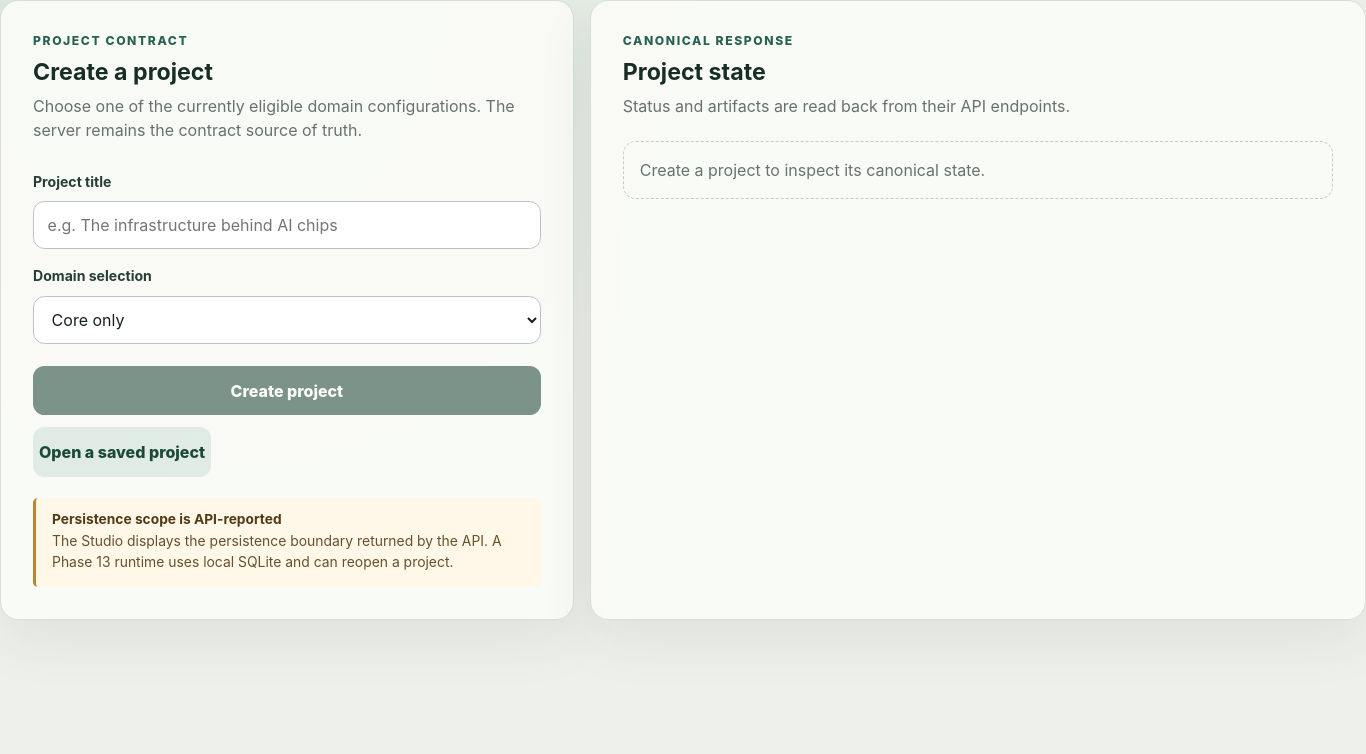
it: ProjectConsole › runs React through the real facade and generated client
expect the dropdown labelled "Domain selection" shows "Core only": met, box [33,296,541,344]
expect the text "persistence boundary returned by the API" is shown: met, box [52,534,502,570]
In the field labelled "Project title": (287, 225) [33,201,541,249], type "Core project"
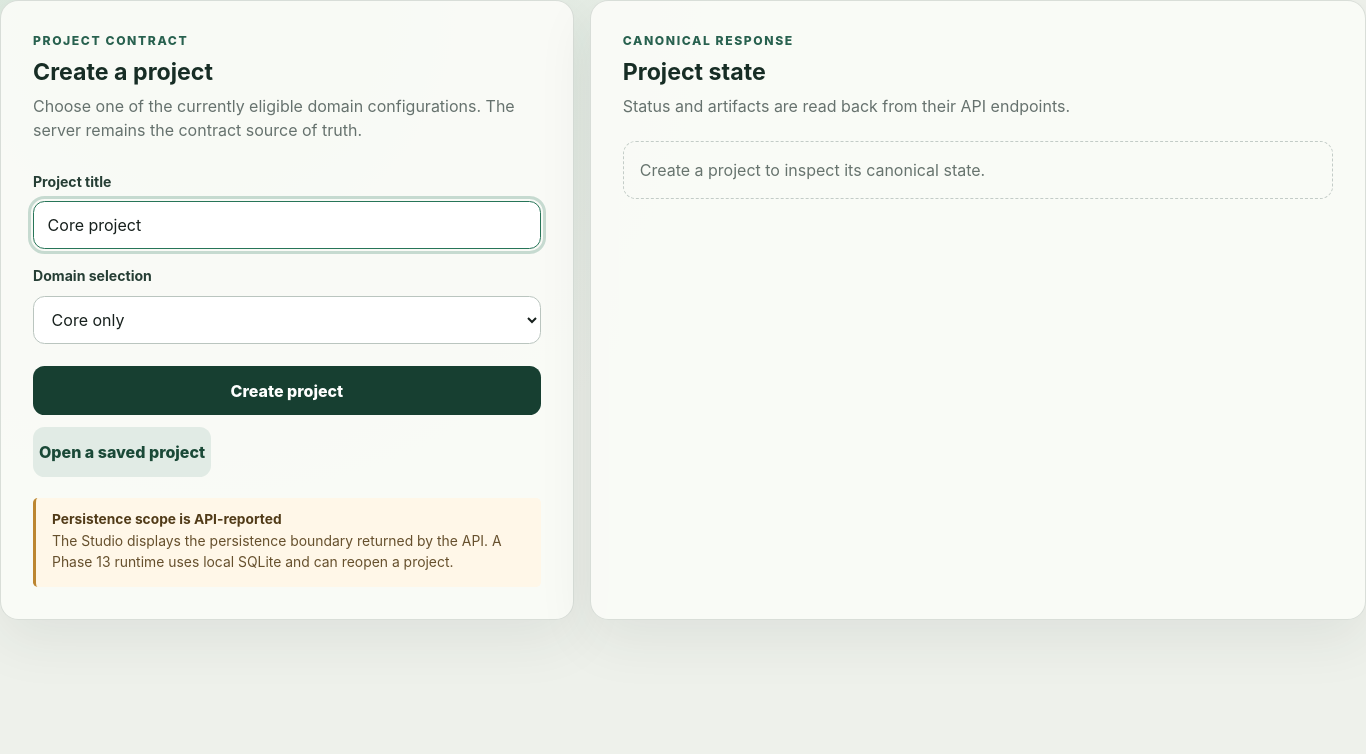
Click the button "Create project": (287, 391) [33,366,541,416]
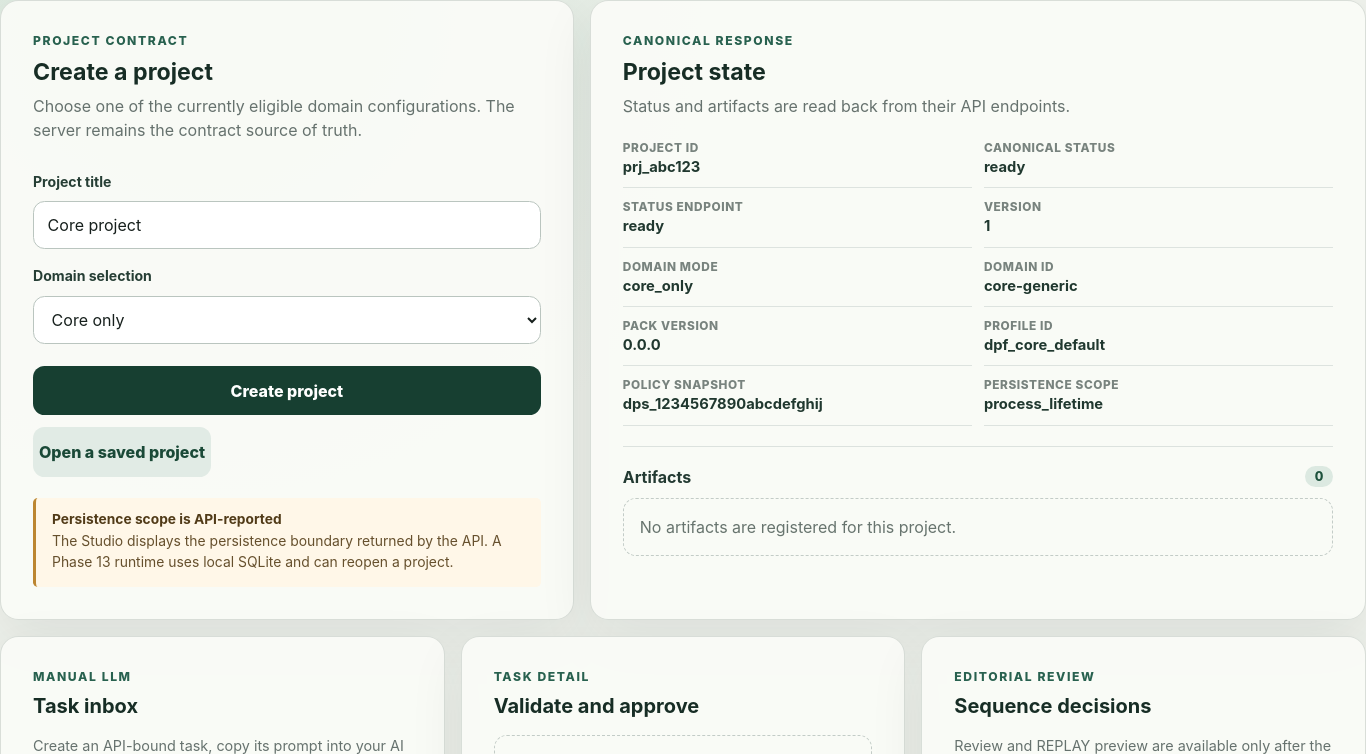
expect the text "prj_abc123" is shown: met, box [623,158,700,176]
expect the text "ready" is shown 2 times: met, box [984,158,1025,176]; [623,217,664,235]
expect the text "process_lifetime" is shown: met, box [984,396,1103,414]
